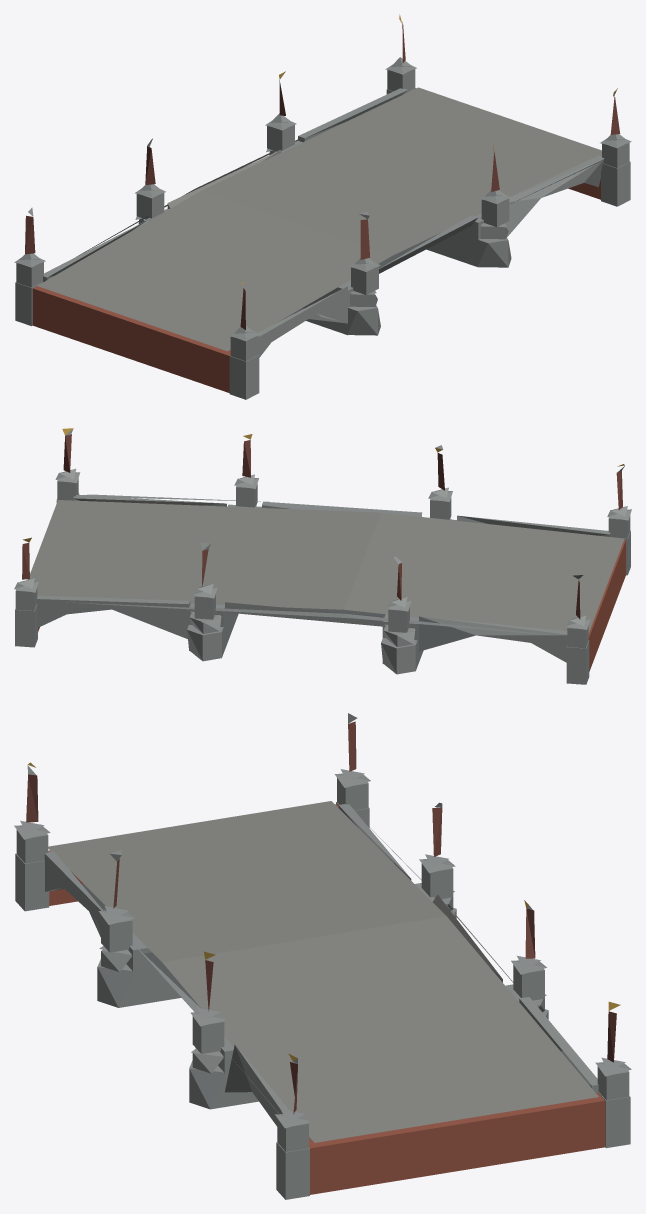
The model's file is blauwbrug.lod2.glb.
3 renders of one model, top to bottom at view 1: azimuth 30°, elevation 25°; view 2: azimuth 150°, elevation 25°; view 3: azimuth 270°, elevation 25°, orthographic. The views are drawn at different scales.
Parts seen in each view (by area): view 1: lod2; view 2: lod2; view 3: lod2.
Part boxes in pixels (x1,y1,x2,y2): lod2: (14,14,631,399); lod2: (14,428,631,684); lod2: (14,713,631,1199).
Size of the model in its own units: 54.72 by 10.42 by 40.17.
